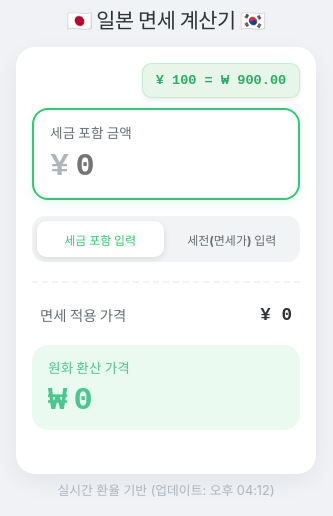
App › shows warning when the price is above 500,000 JPY
Check: the text "¥ 100 = ₩ 900.00" is shown, box [142,63,300,98]
Type "605001" into the field labelled "세금 포함 금액" at {"x": 179, "y": 167}, box [76,148,282,185]
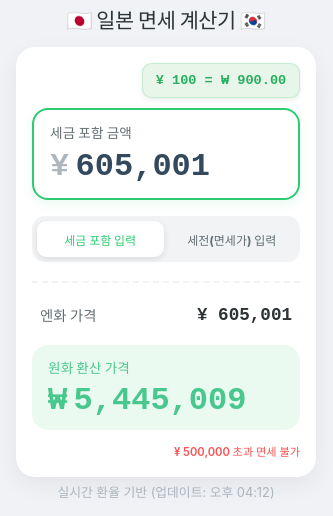
Check: the text "¥ 500,000 초과 면세 불가" is shown, box [174,444,300,461]
